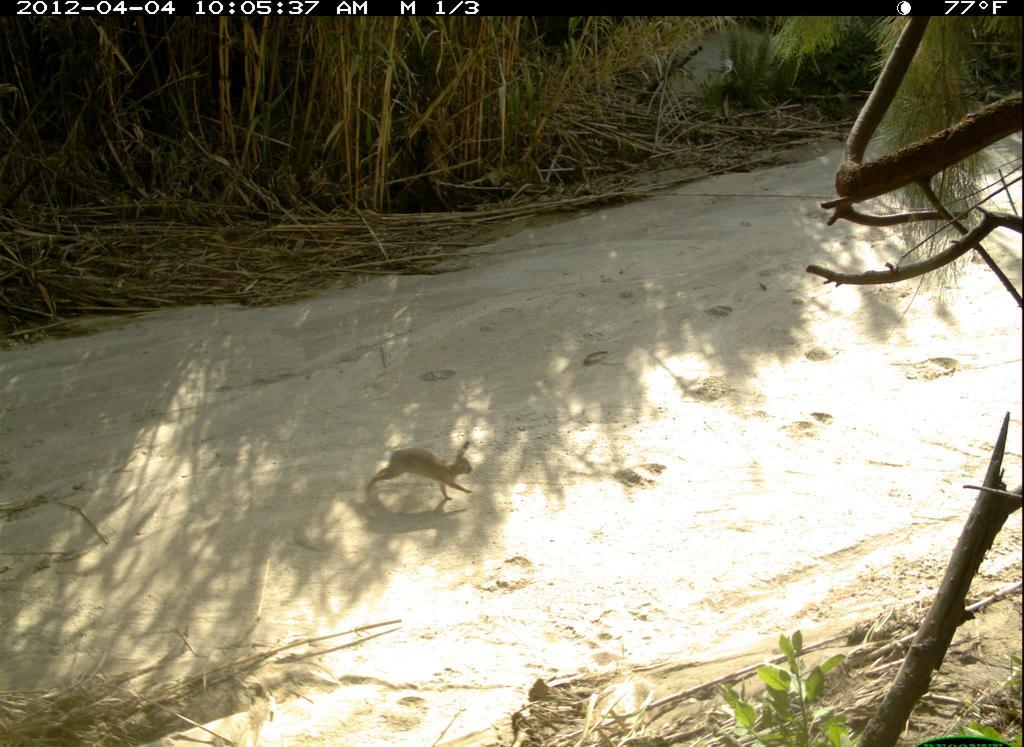rabbit: (364, 436, 484, 511)
